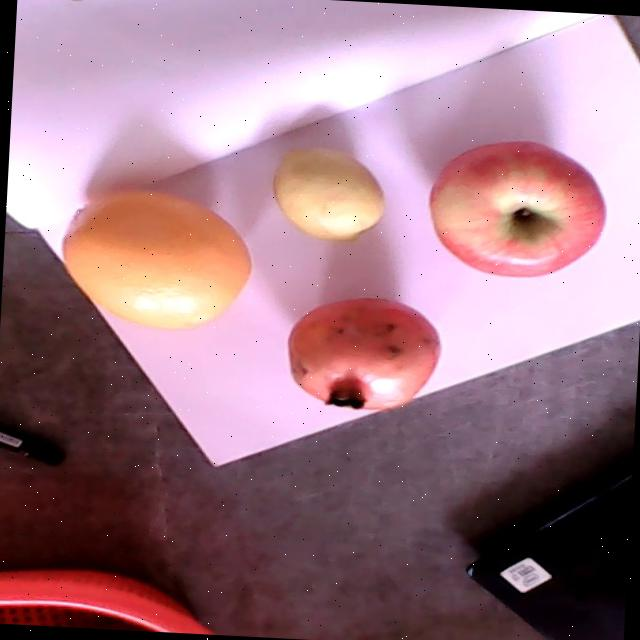apple: (428, 142, 604, 279)
lemon: (270, 146, 384, 241)
orange: (60, 186, 253, 329)
pomegranate: (286, 295, 440, 410)
